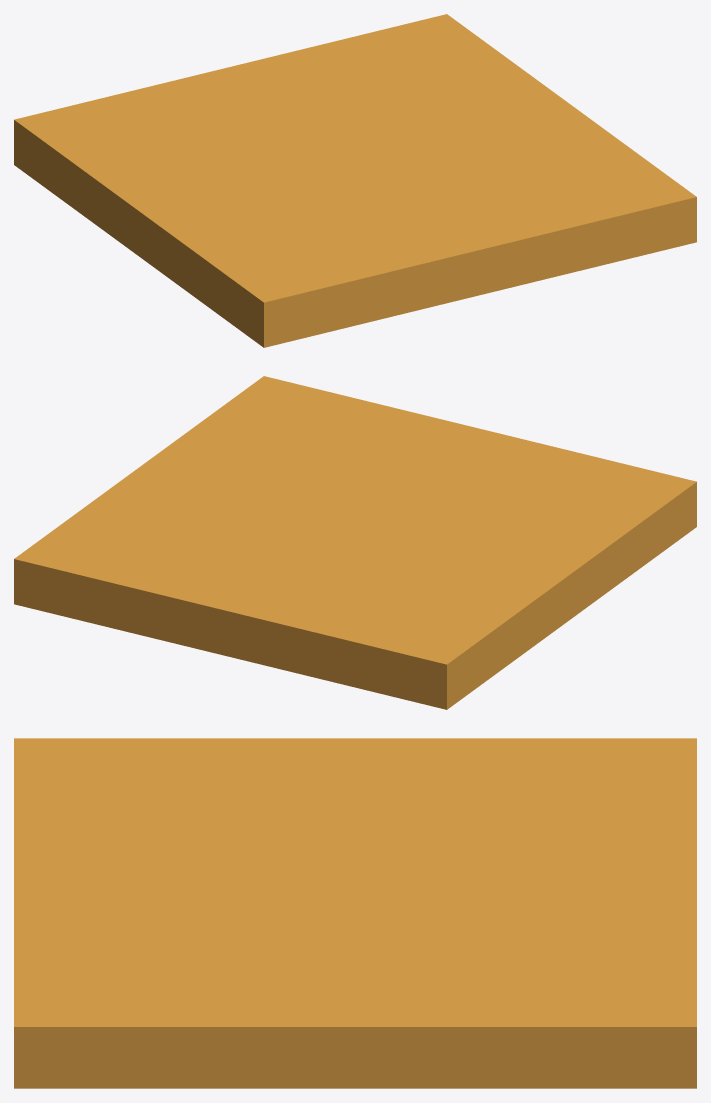
The model's file is scifi-floor-bottom.fbx.
The picture shows the model from 3 angles, top to bottom: view 1: azimuth 30°, elevation 25°; view 2: azimuth 150°, elevation 25°; view 3: azimuth 270°, elevation 25°; orthographic projection. The views are drawn at different scales.
Parts seen in each view (by area): view 1: scifi-floor-bottom; view 2: scifi-floor-bottom; view 3: scifi-floor-bottom.
Boxes of the visible parts, <box> form: scifi-floor-bottom: <box>14,14,696,347</box>; scifi-floor-bottom: <box>14,376,696,709</box>; scifi-floor-bottom: <box>14,738,696,1088</box>.
Bounding box in the file's own units: 4 × 0.4 × 4.
